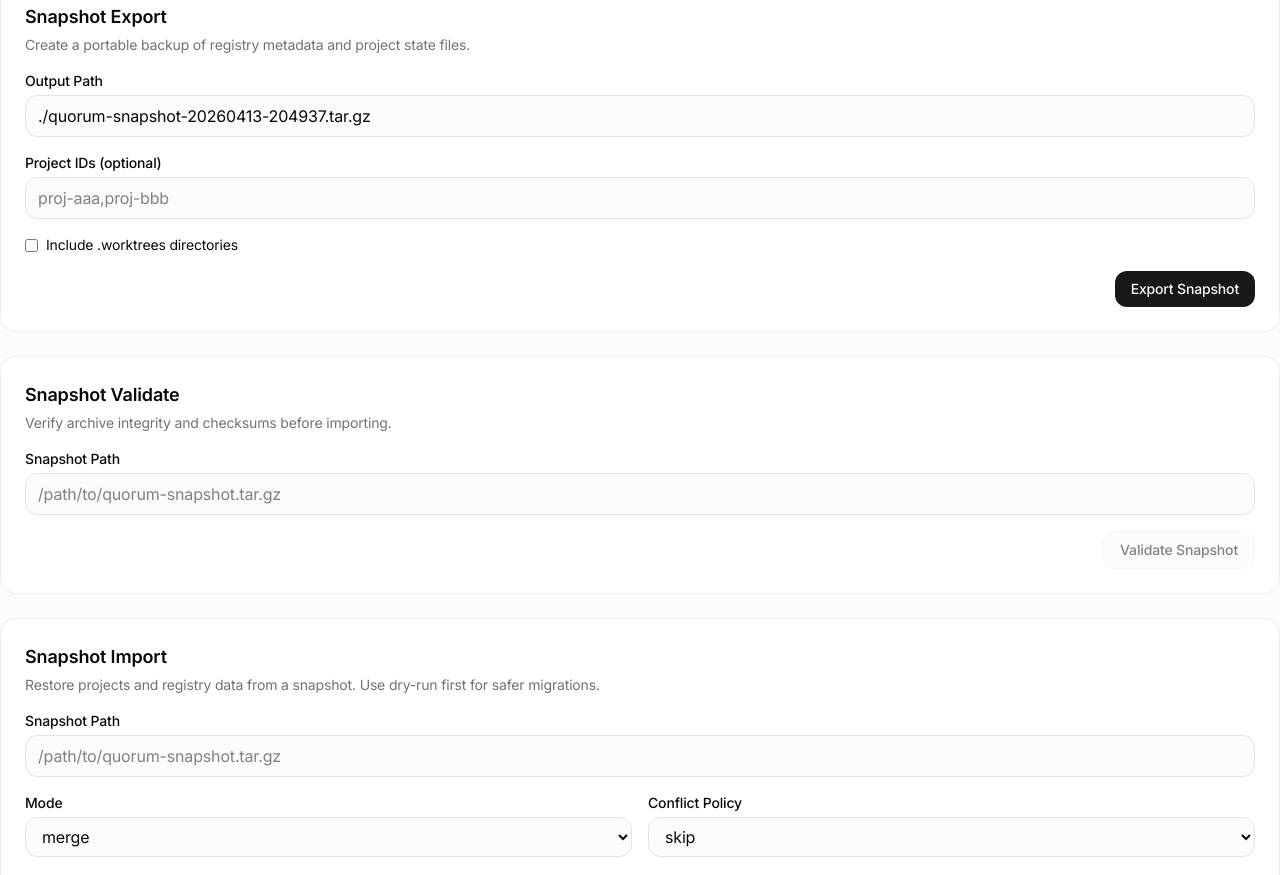
Test case: SnapshotsTab › exports snapshot with parsed project IDs
The width and height of the screenshot is (1280, 875).
Step 1. Type "proj-a, proj-b" into the field labelled "Project IDs (optional)" → (640, 198), box left=25, top=177, right=1255, bottom=219
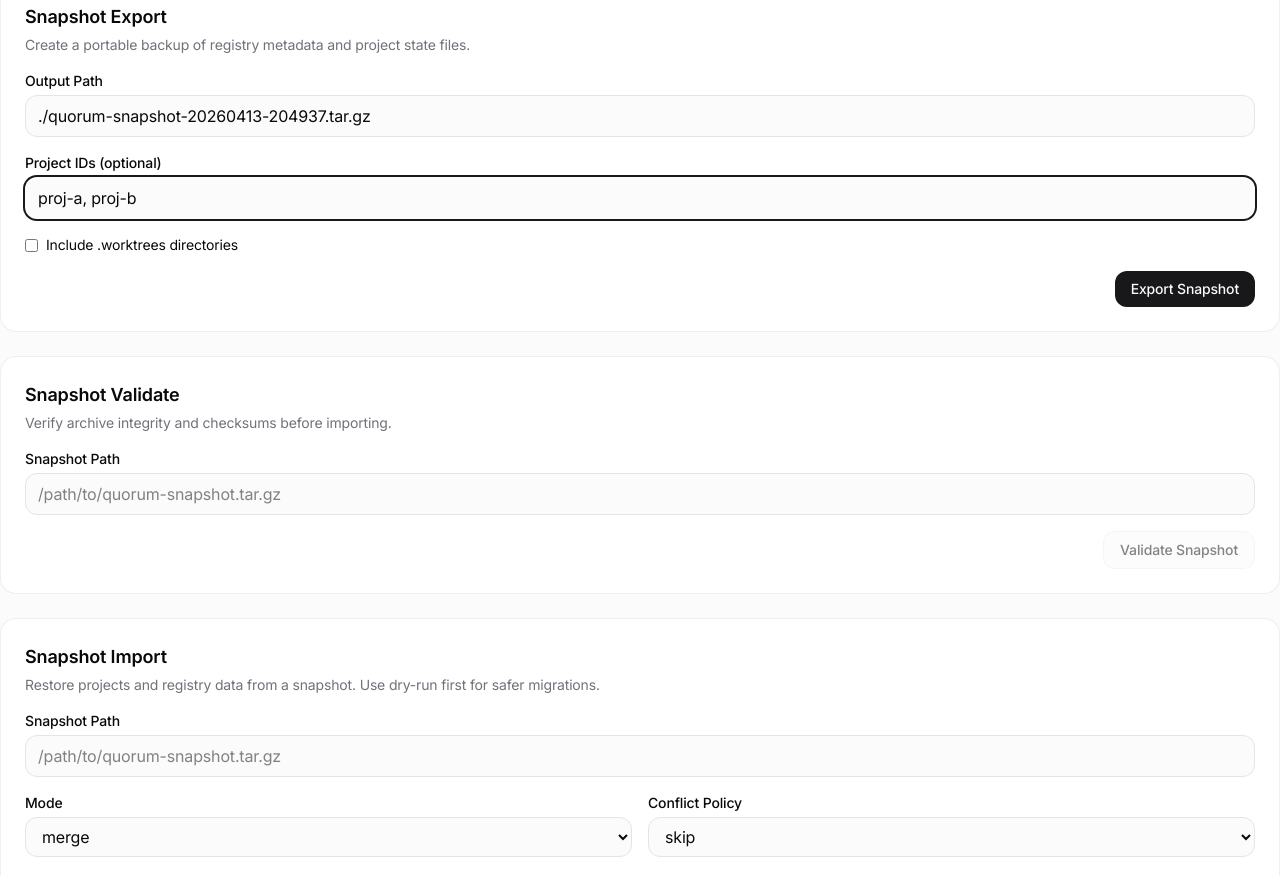
Step 2. Click the button "Export Snapshot" → (1185, 289), box left=1115, top=271, right=1255, bottom=307
(page scrolled)
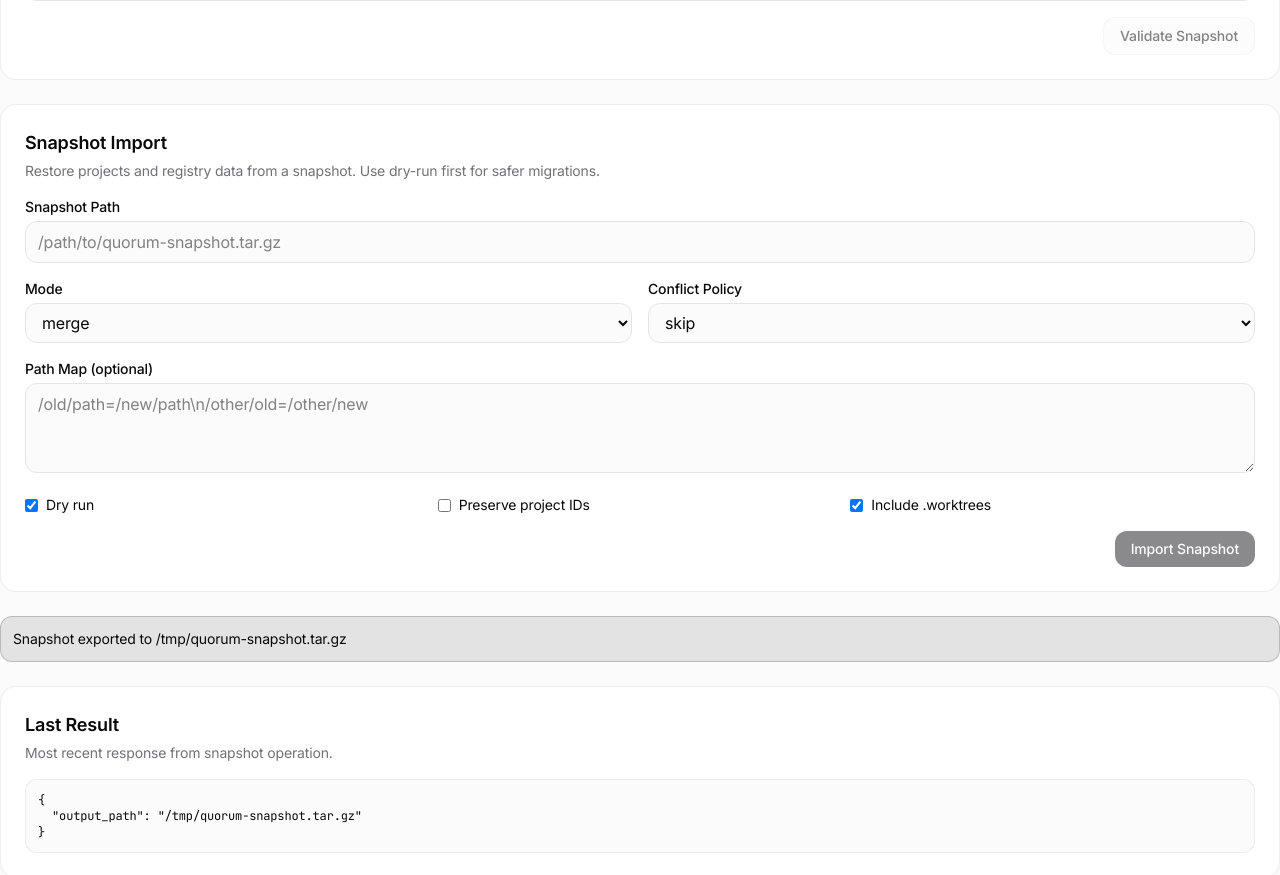
Expected: the text "Snapshot exported to /tmp/quorum-snapshot.tar.gz" is shown, left=0, top=616, right=1279, bottom=662
